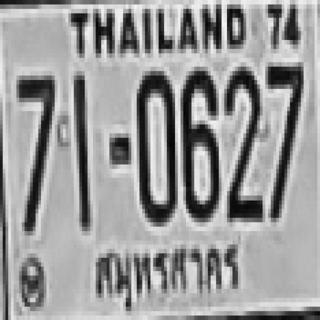N00: (135, 69, 174, 220)
N01: (72, 73, 89, 229)
N02: (223, 62, 261, 218)
N06: (181, 67, 219, 218)
N07: (15, 71, 53, 231), (265, 62, 301, 218)
P58: (87, 237, 246, 305)
